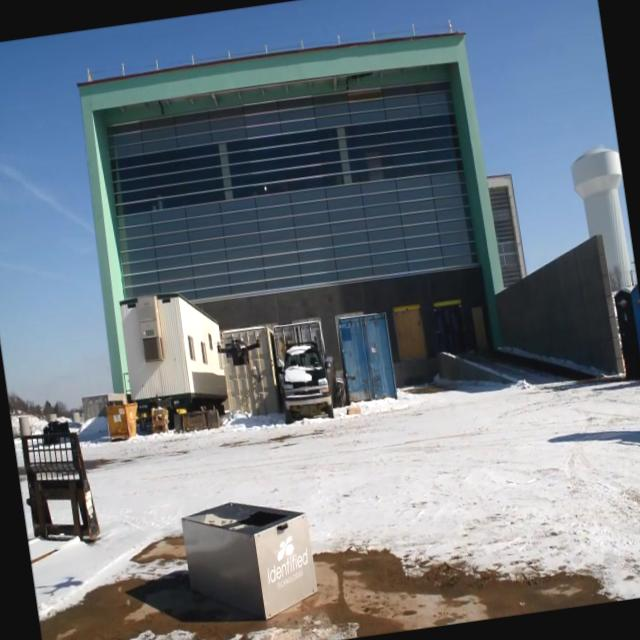drone: (214, 326, 264, 374)
